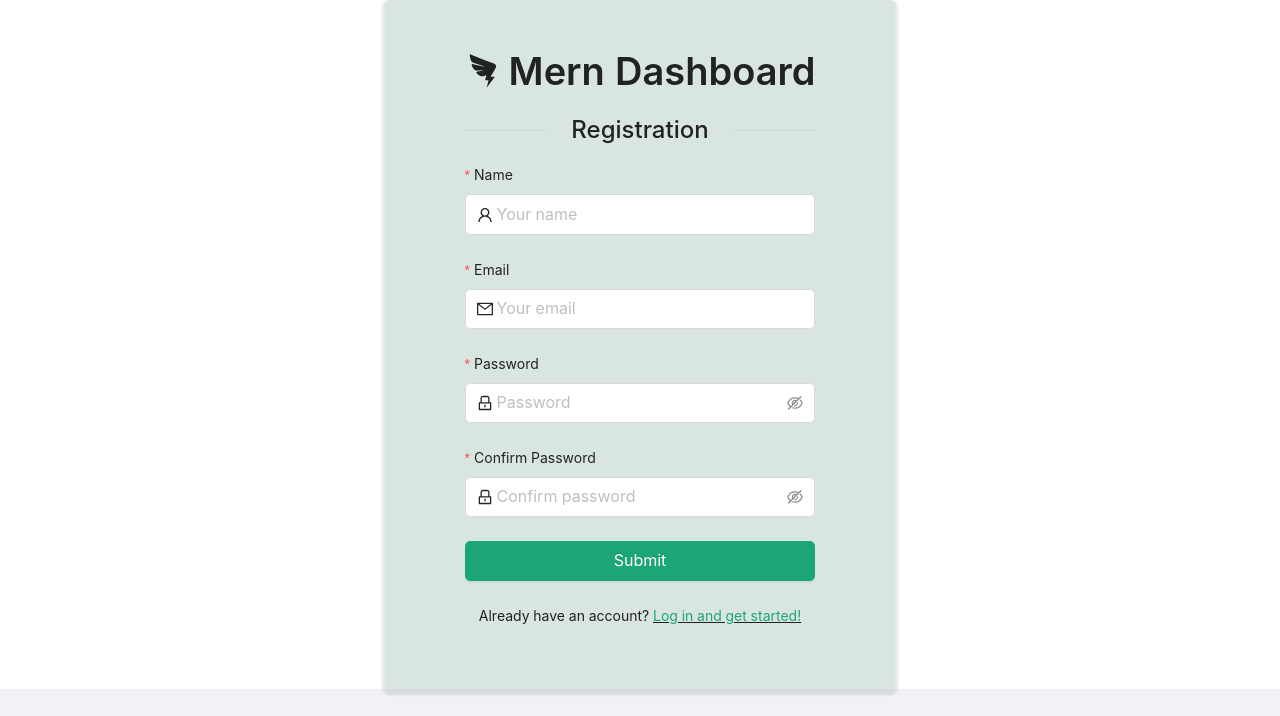
Test: Registration › should get password missmatch notification
The width and height of the screenshot is (1280, 716).
Type "John Doe" into the field with placeholder "Your name".
click(650, 214); type("John Doe")  # box left=497, top=202, right=803, bottom=227
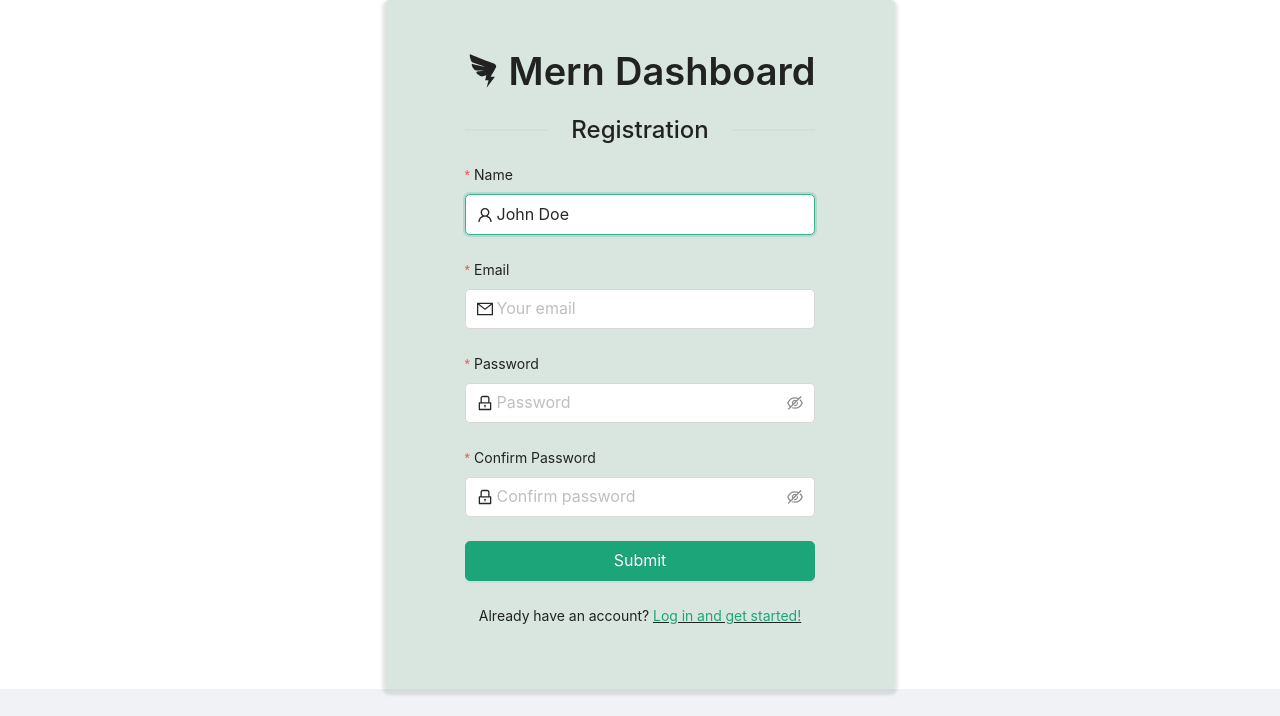
Type "user@test.com" into the field with placeholder "Your email".
click(650, 309); type("user@test.com")  # box left=497, top=296, right=803, bottom=321
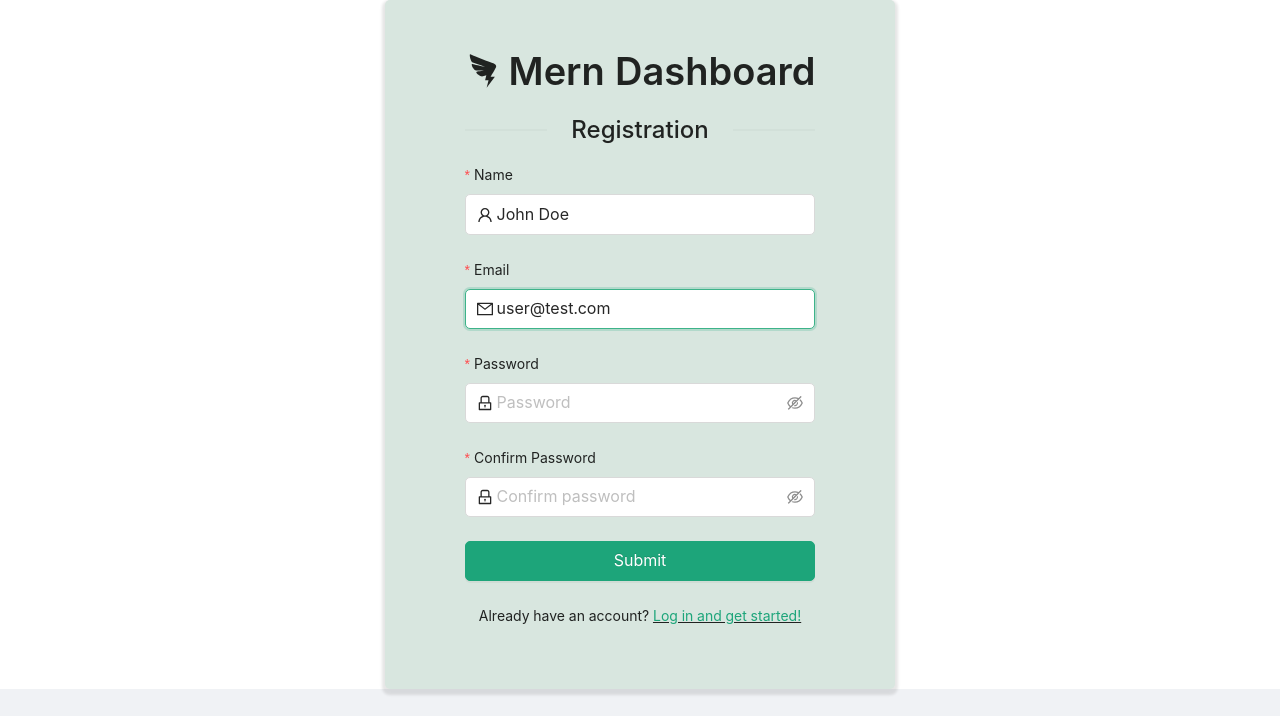
Type "123456" into the password field with placeholder "Password".
click(640, 403); type("123456")  # box left=497, top=390, right=783, bottom=415
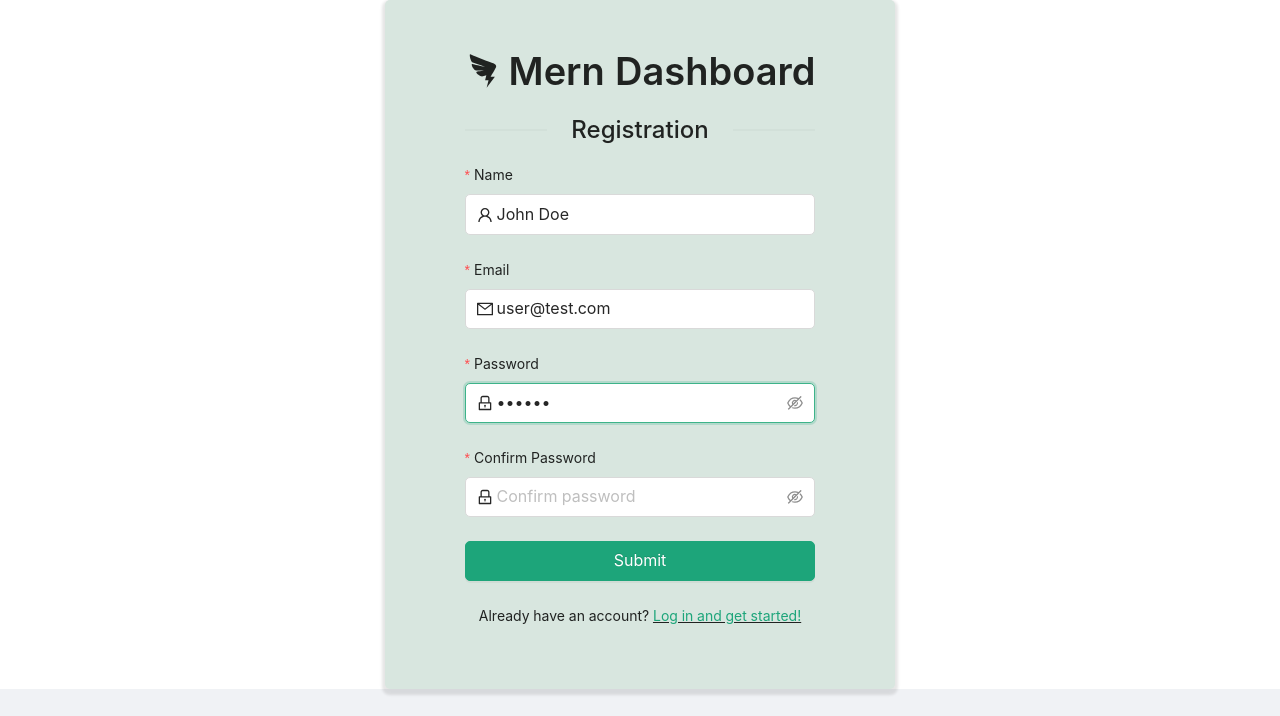
Type "1234567" into the password field with placeholder "Confirm Password".
click(640, 497); type("1234567")  # box left=497, top=484, right=783, bottom=510
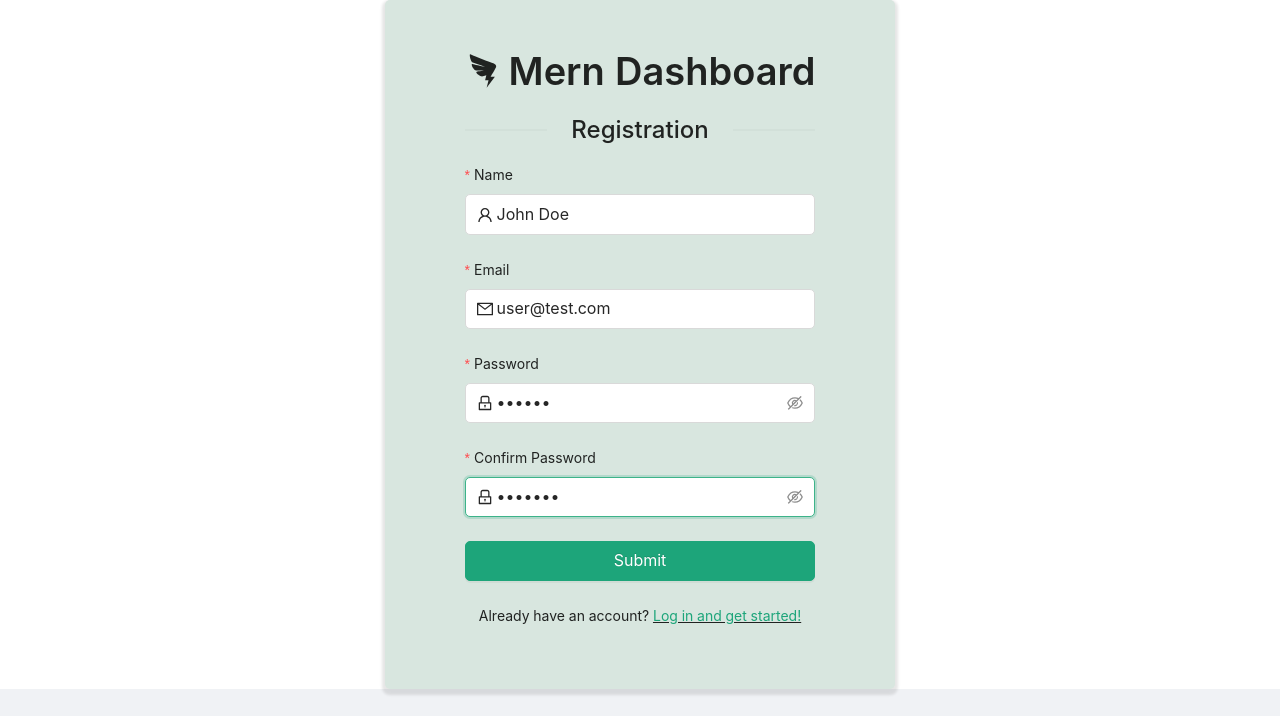
Click the button.
click(640, 561)  # box left=465, top=541, right=815, bottom=581
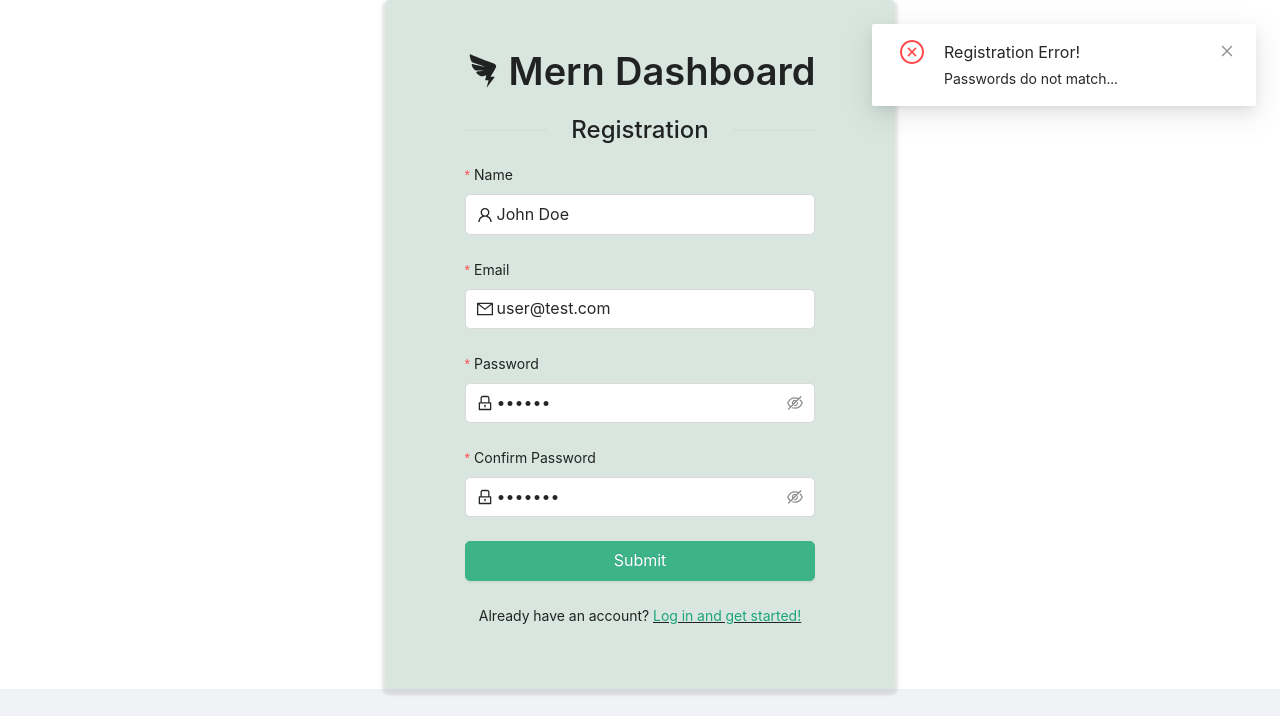
Now the text "Passwords do not match..." is shown, box left=944, top=70, right=1118, bottom=87
